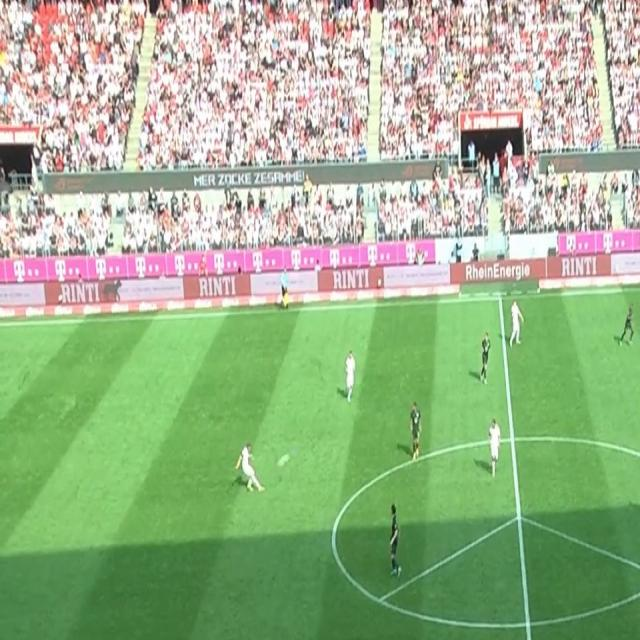ball: (278, 450, 291, 467)
